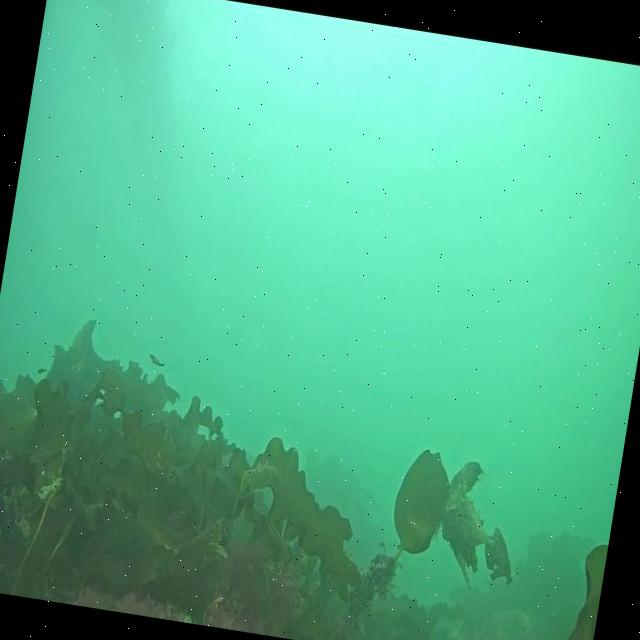fish: (148, 354, 166, 368), (38, 368, 46, 376)
